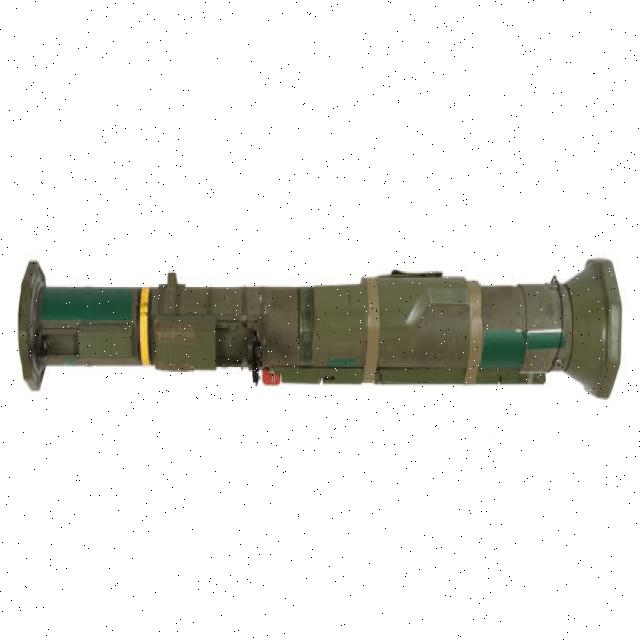bazooka: (9, 252, 632, 407)
